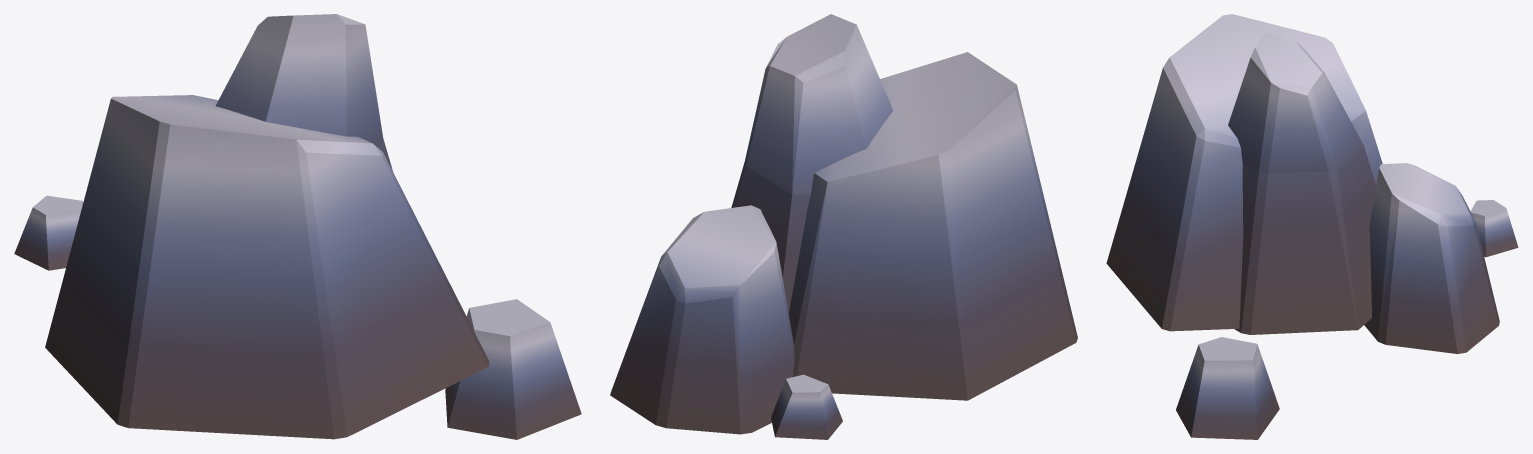
Rendered from block_mountain_2_1.fbx.
The picture shows the model from 3 angles, left to right: view 1: azimuth 30°, elevation 25°; view 2: azimuth 150°, elevation 25°; view 3: azimuth 270°, elevation 25°; orthographic projection. The views are drawn at different scales.
Visible parts, largest first — view 1: block_mountain_2_1; view 2: block_mountain_2_1; view 3: block_mountain_2_1.
Part boxes in pixels (<box>): block_mountain_2_1: <box>14,14,581,439</box>; block_mountain_2_1: <box>610,14,1077,439</box>; block_mountain_2_1: <box>1106,14,1518,439</box>.
Bounding box in the file's own units: 68.82 × 60.61 × 71.34.
